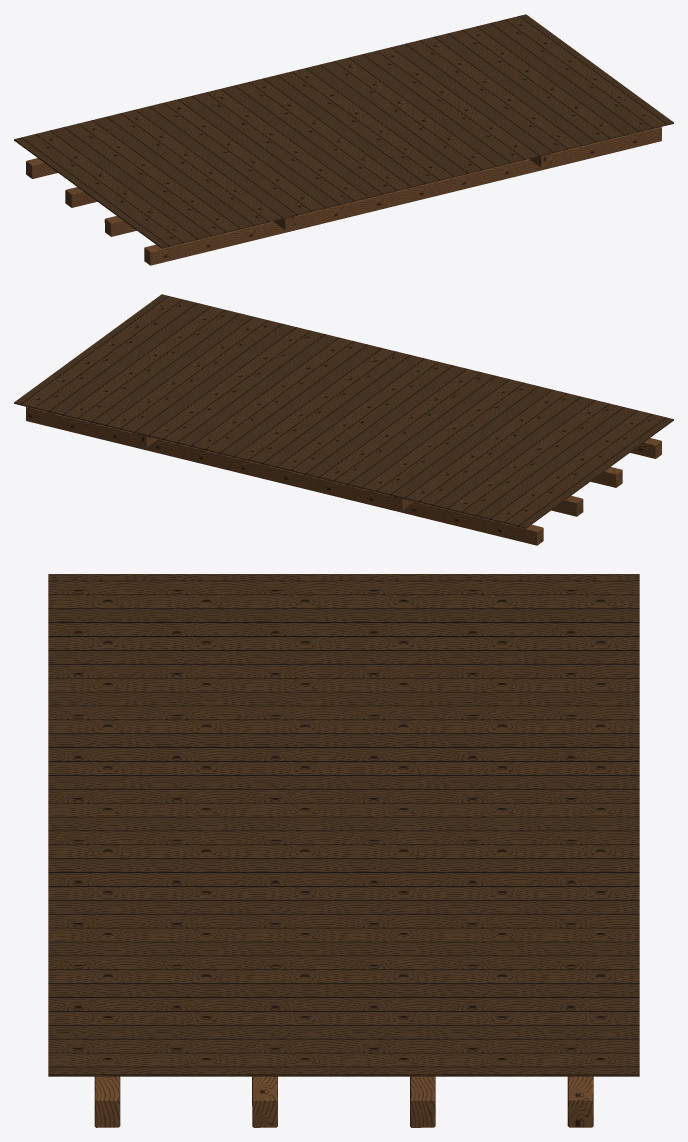
The model's file is Ceiling_Beams.glb.
3 renders of one model, top to bottom at view 1: azimuth 30°, elevation 25°; view 2: azimuth 150°, elevation 25°; view 3: azimuth 270°, elevation 25°, orthographic. The views are drawn at different scales.
Visible parts, largest first — view 1: Ceiling_Beams; view 2: Ceiling_Beams; view 3: Ceiling_Beams.
Part boxes in pixels (x1=…): Ceiling_Beams: x1=14, y1=14, x2=673, y2=265; Ceiling_Beams: x1=14, y1=294, x2=673, y2=545; Ceiling_Beams: x1=48, y1=574, x2=639, y2=1127.
Bounding box in the file's own units: 12.01 × 0.612 × 6.
2 materials, 2 textured.
